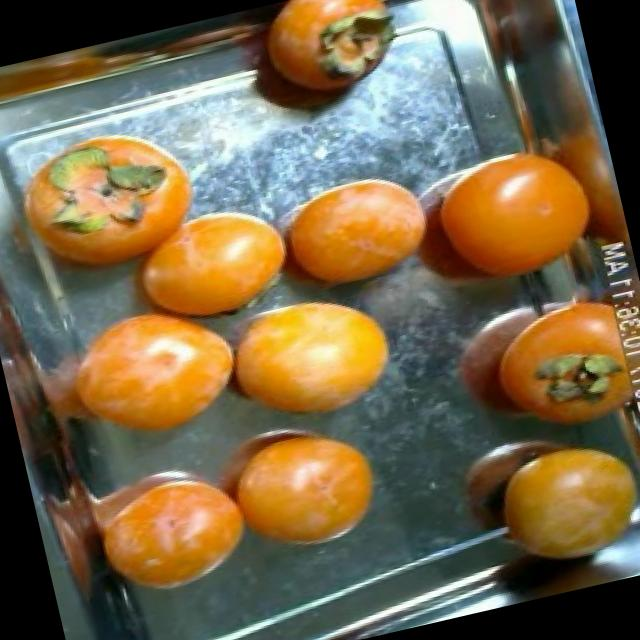Fruit: (29, 274, 262, 470), (188, 391, 402, 577), (196, 274, 422, 450), (245, 141, 459, 316), (72, 444, 268, 616), (467, 413, 640, 587)
